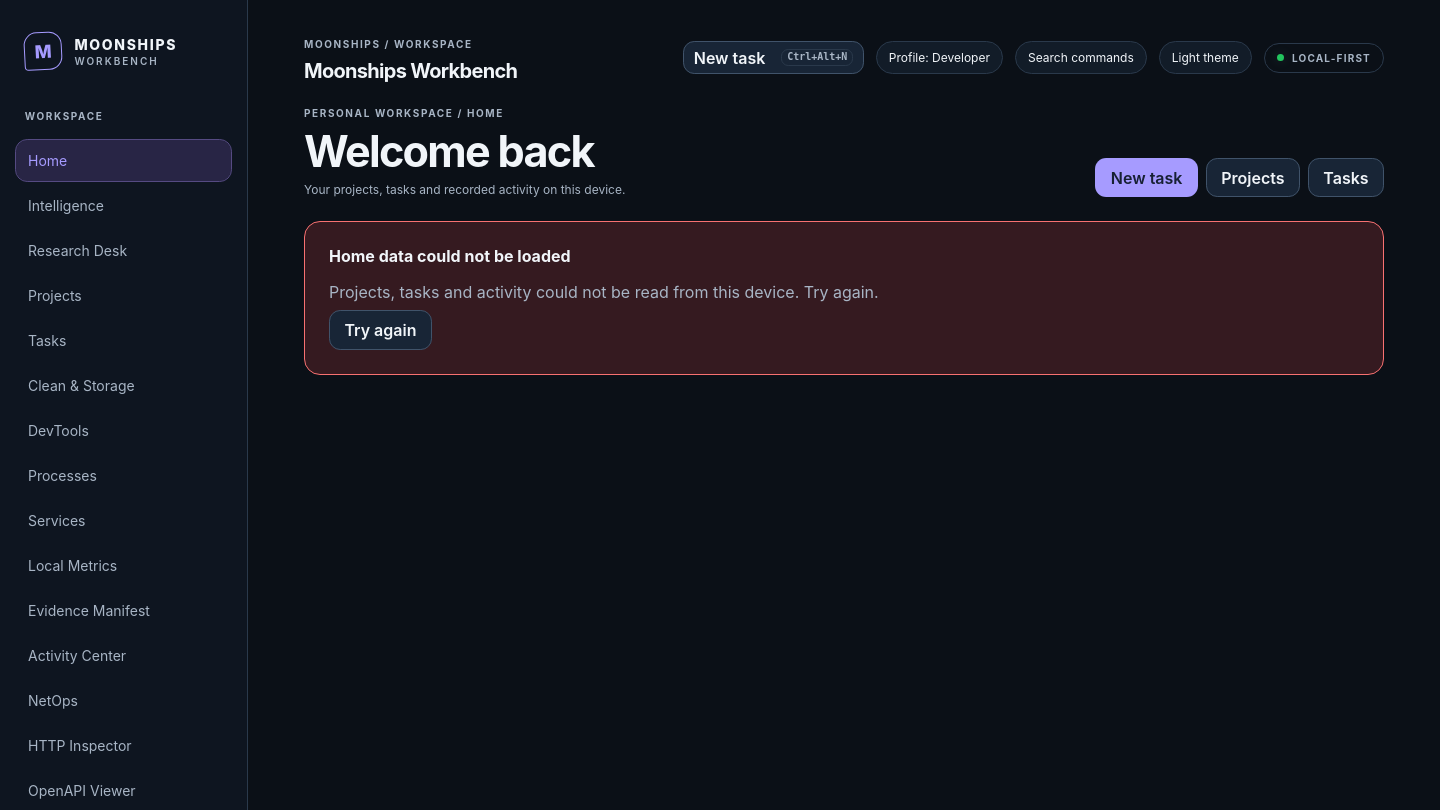
M1-032 registered commands in the running shell › opens the task form from the registered create command
Click the button with aria-label "Open Command Palette" at (1081,58), box [1015,41,1147,74]
(page scrolled)
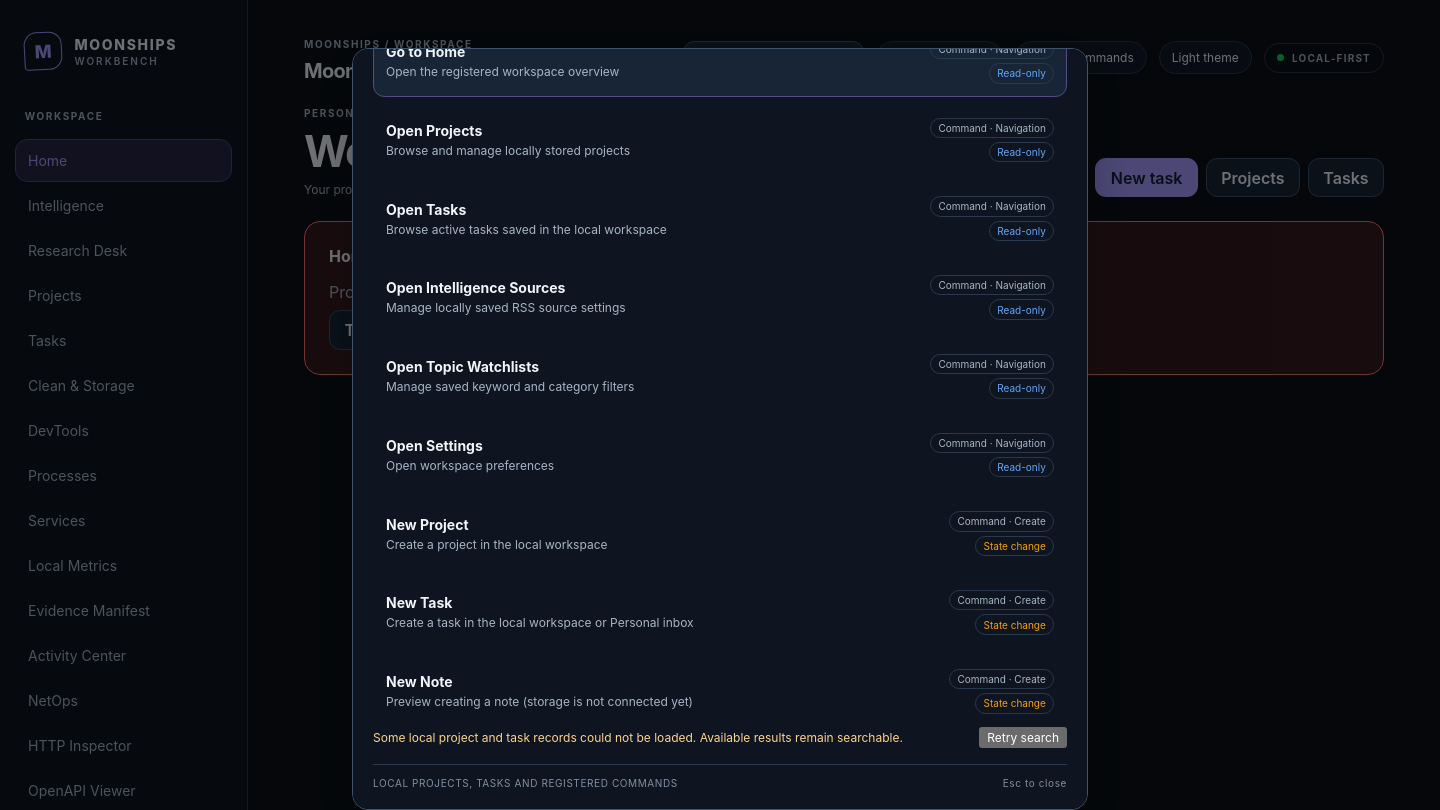
Click the option "New Task" at (419,603), box [373,577,1067,648]
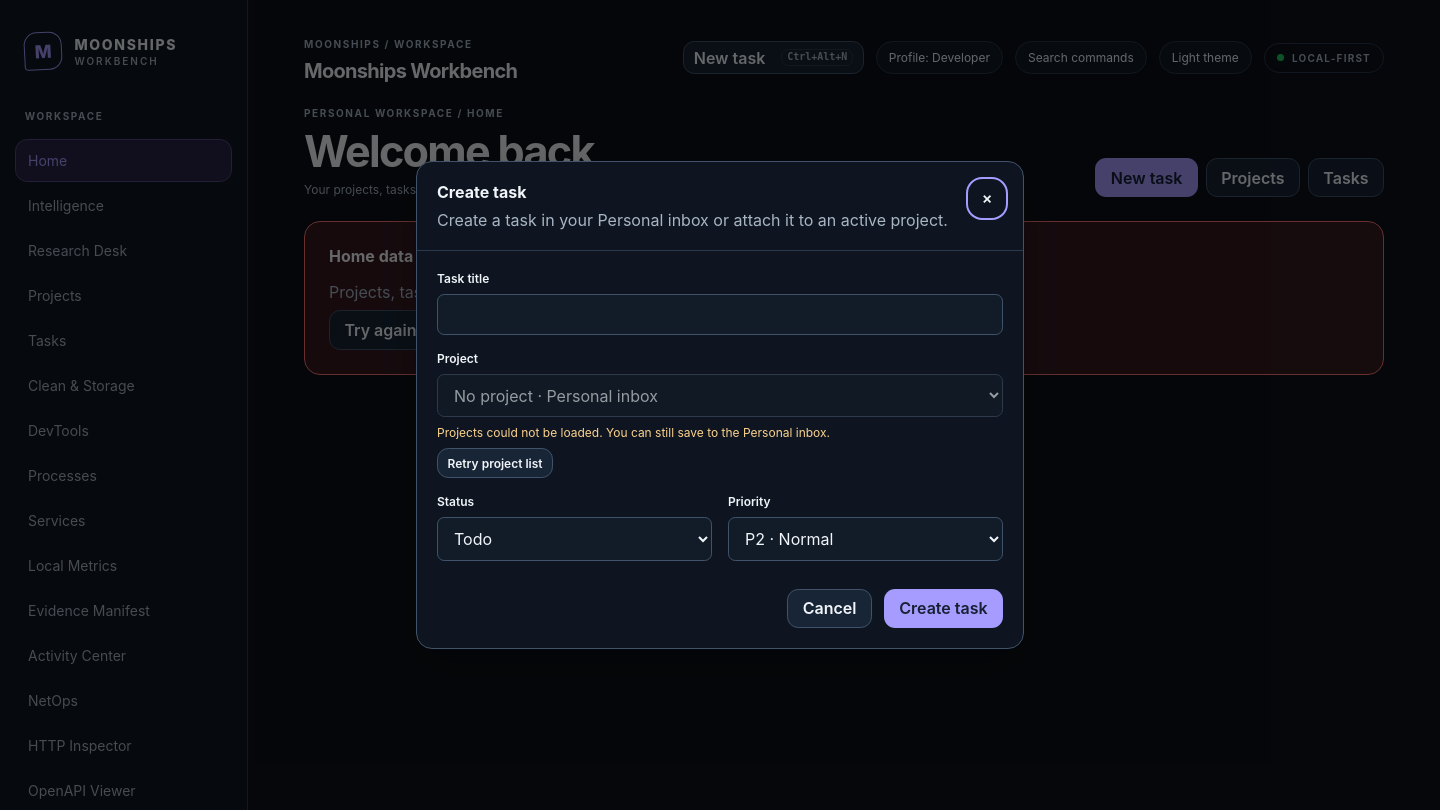
Check: the dialog "Create task" is shown, box [416,161,1024,649]
